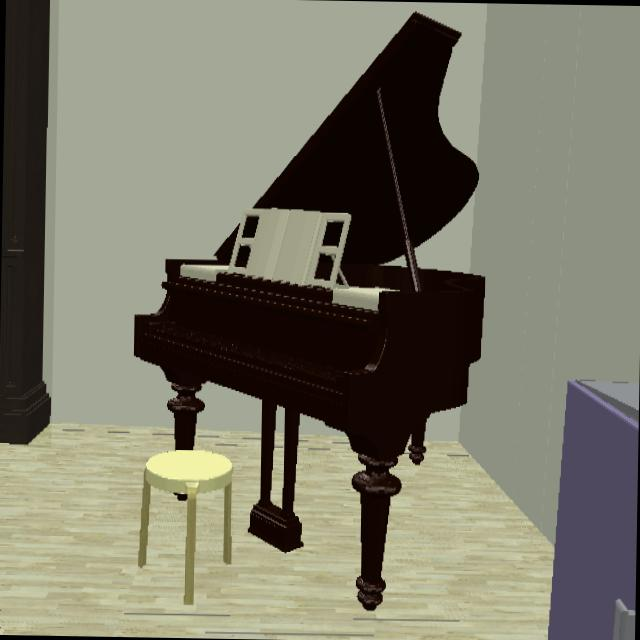chair: (138, 450, 233, 606)
